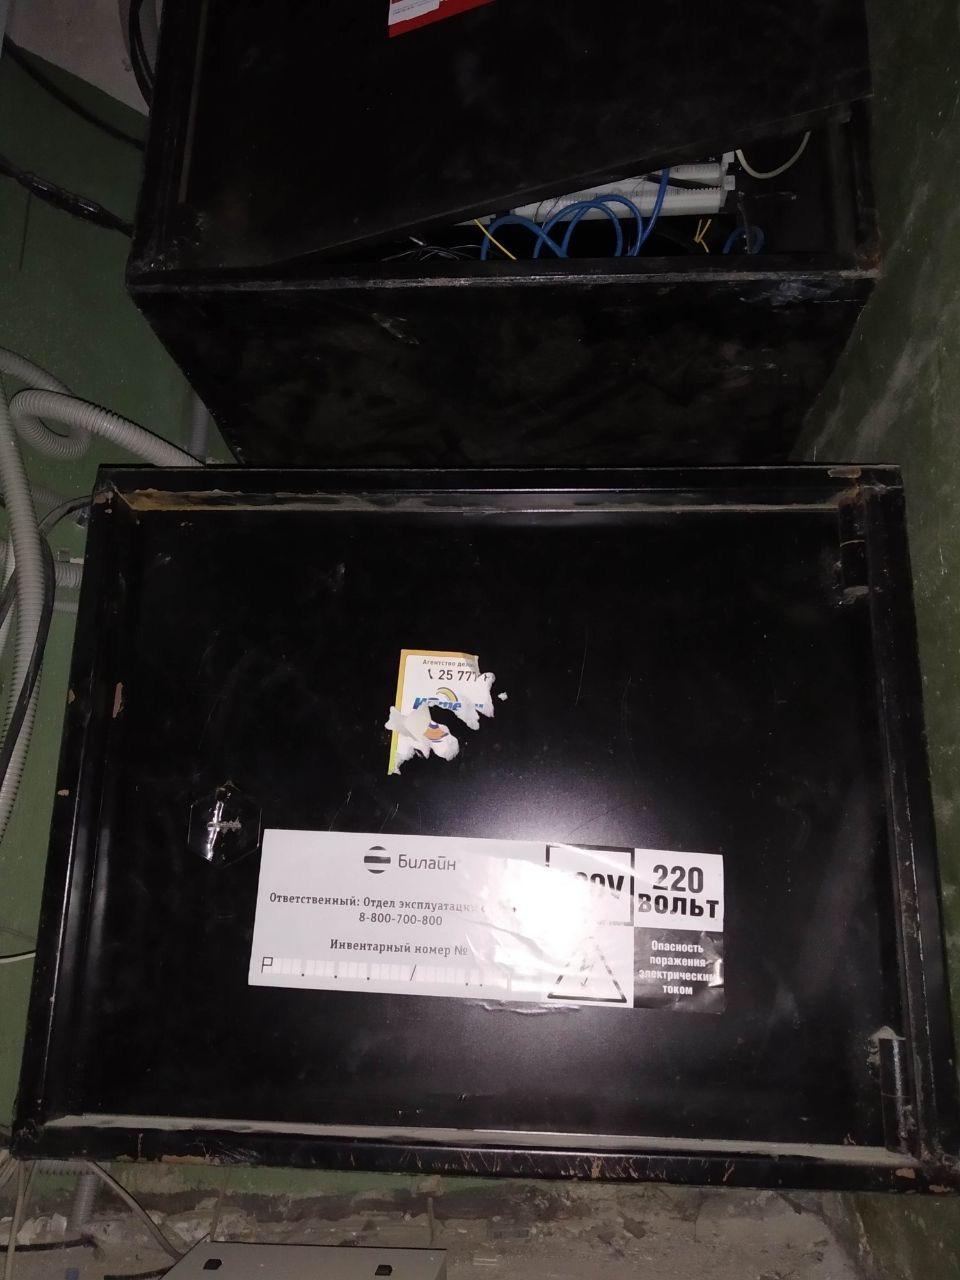shta-9m: (10, 438, 943, 1191)
